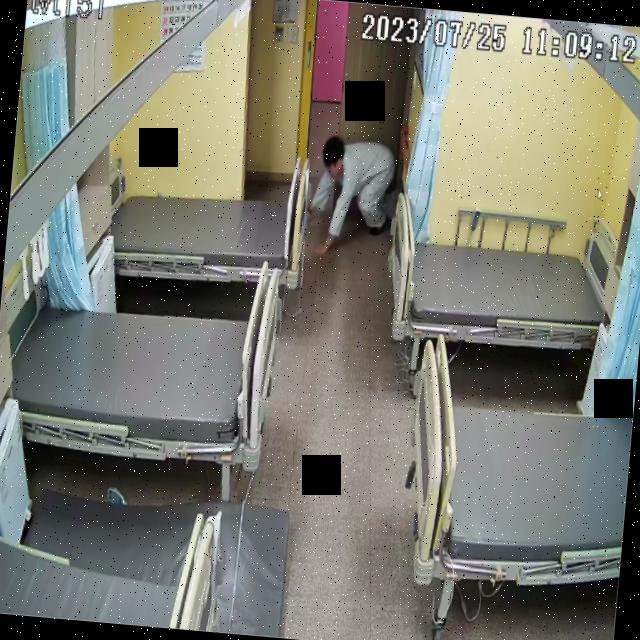bed: (398, 333, 638, 596), (2, 291, 278, 466), (381, 219, 624, 358), (108, 174, 306, 288)
fall: (304, 132, 396, 261)
patient: (303, 128, 397, 258)
